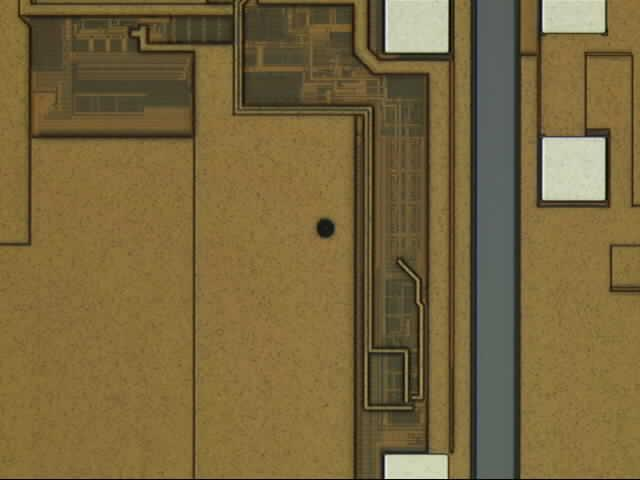PIQ PARTICLE: (311, 213, 343, 245)
